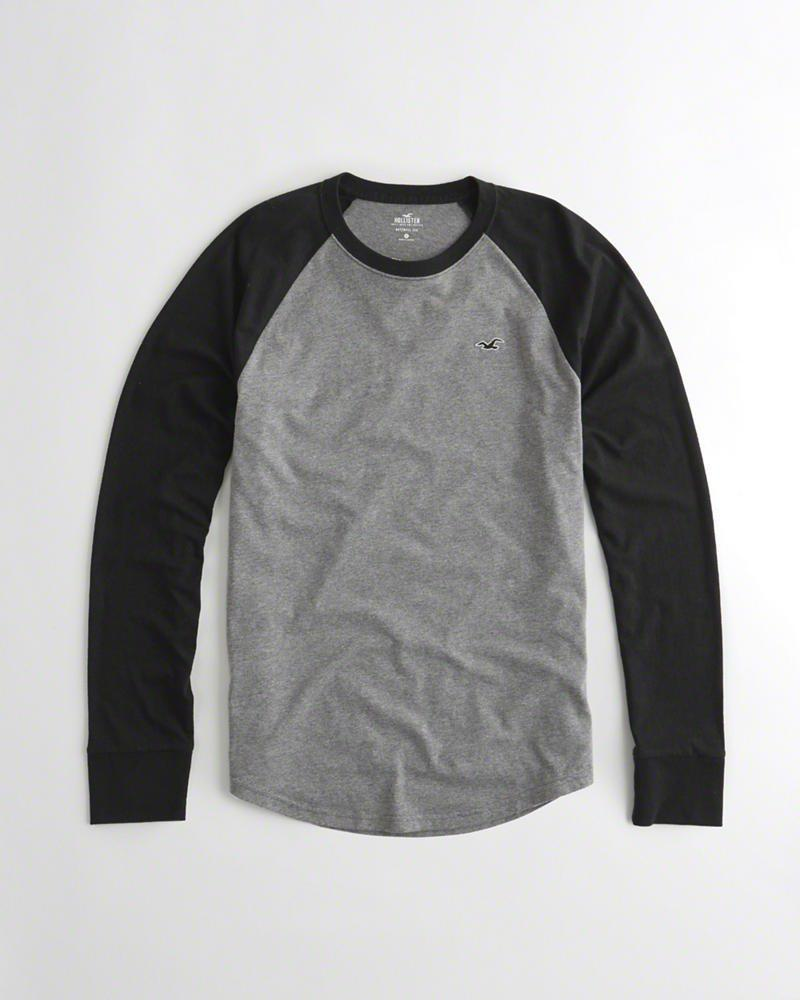teeshirt: (50, 162, 756, 918)
